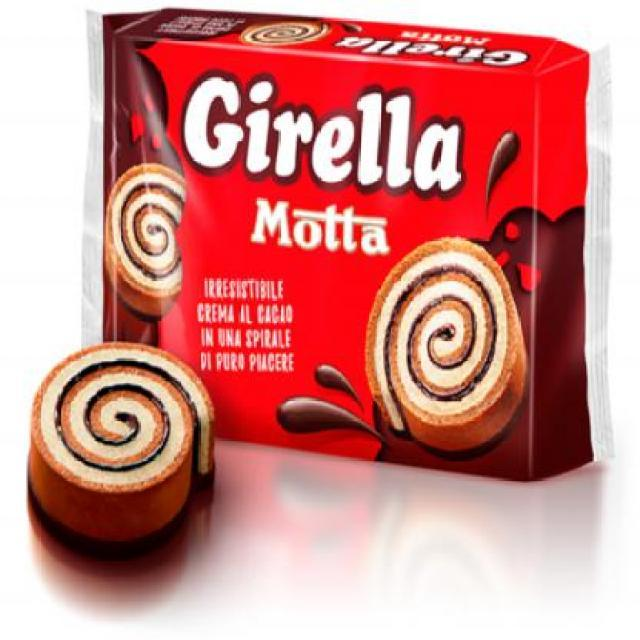Merendine: (78, 6, 617, 483)
Merendine packaged: (26, 342, 219, 560)
